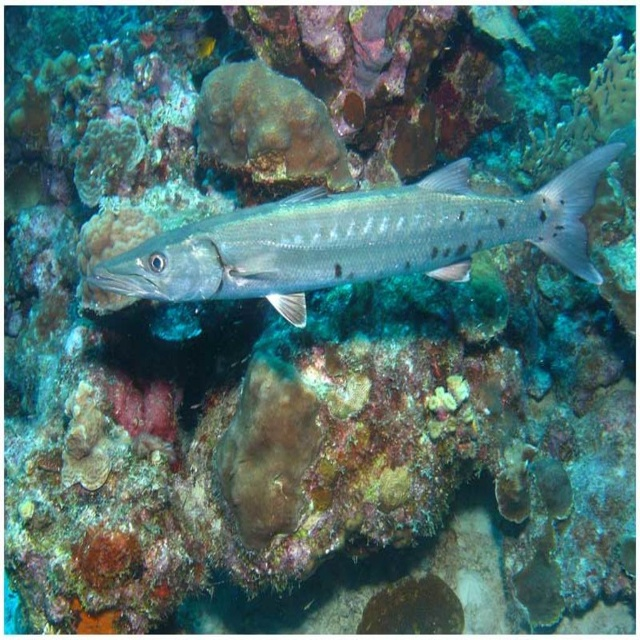Fish: (76, 143, 640, 337)
